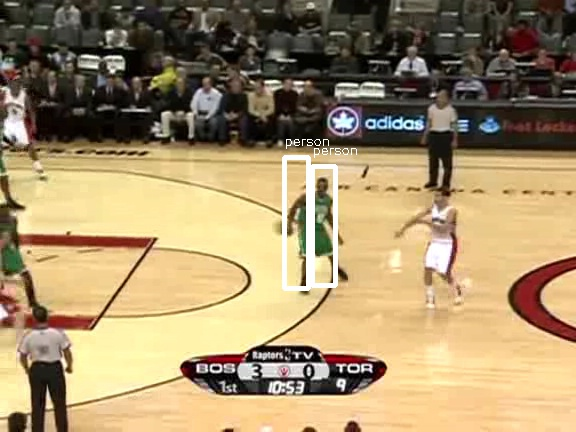person: (301, 185, 335, 266), (300, 185, 334, 266), (302, 185, 336, 266), (301, 184, 335, 265), (301, 186, 335, 267)
target_negative: (328, 77, 395, 285), (63, 276, 135, 422), (337, 301, 435, 395), (459, 24, 506, 157), (88, 390, 117, 416), (547, 380, 553, 406)
